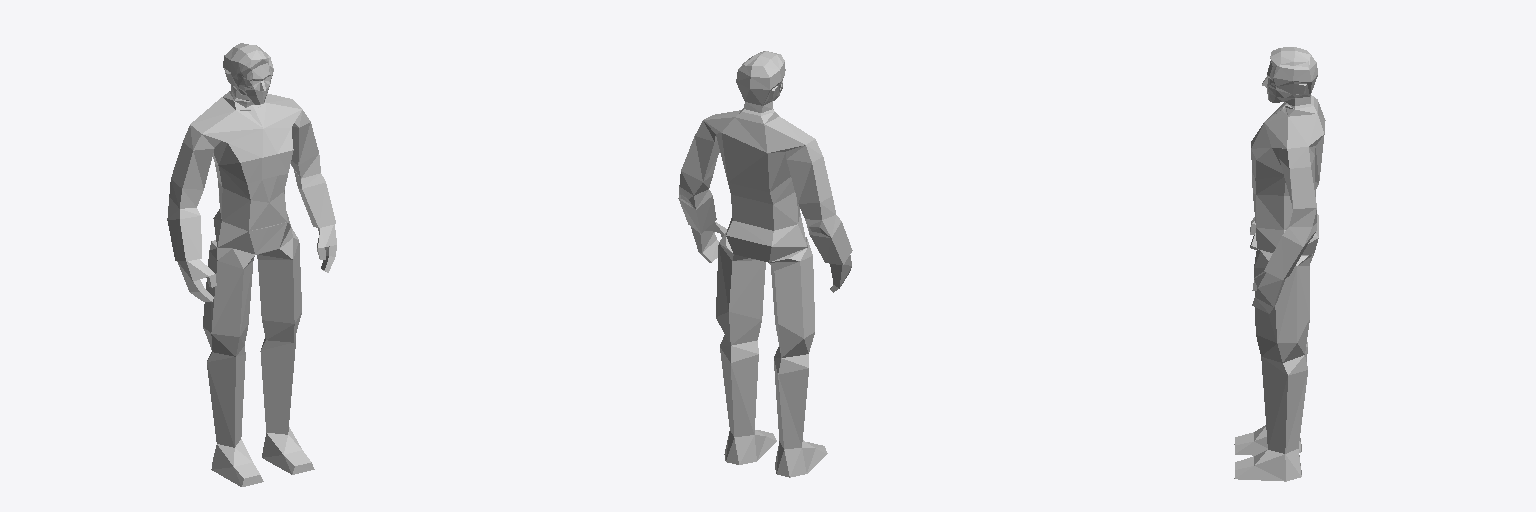
Rendered from Manuel22.obj.
3 renders of one model, left to right at view 1: azimuth 30°, elevation 25°; view 2: azimuth 150°, elevation 25°; view 3: azimuth 270°, elevation 25°, orthographic.
Visible parts, largest first — view 1: leon; view 2: leon; view 3: leon.
Part boxes in pixels (bbox=[...]): leon: bbox=[167, 43, 336, 486]; leon: bbox=[678, 51, 852, 477]; leon: bbox=[1234, 47, 1325, 481].
Bounding box in the file's own units: 4.83 × 12.18 × 2.44.